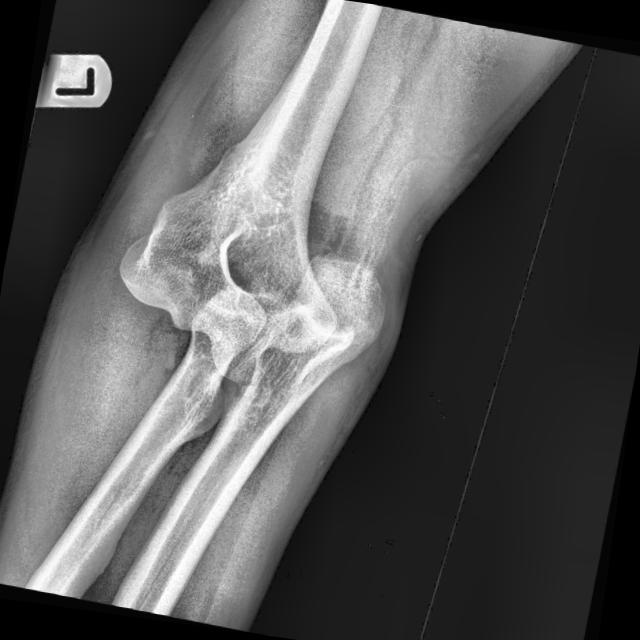elbow positive: (193, 244, 373, 402)
